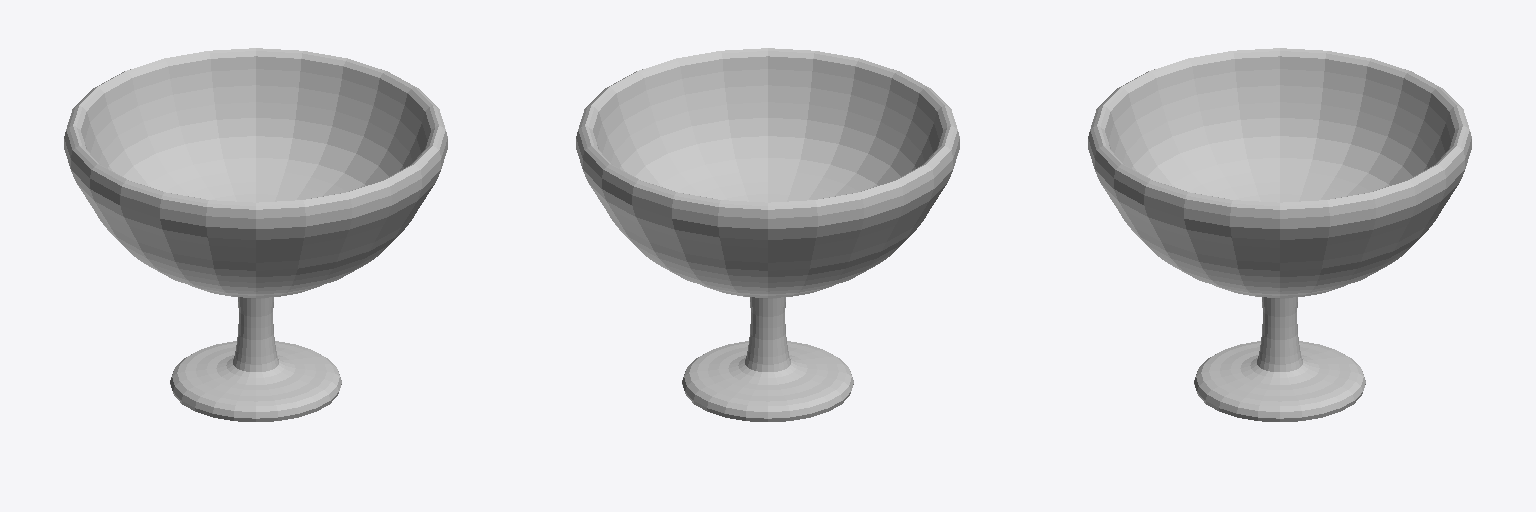
The model's file is Cup.obj.
The picture shows the model from 3 angles: view 1: azimuth 30°, elevation 25°; view 2: azimuth 150°, elevation 25°; view 3: azimuth 270°, elevation 25°; orthographic projection.
Size of the model in its own units: 73.17 by 54.95 by 73.17.